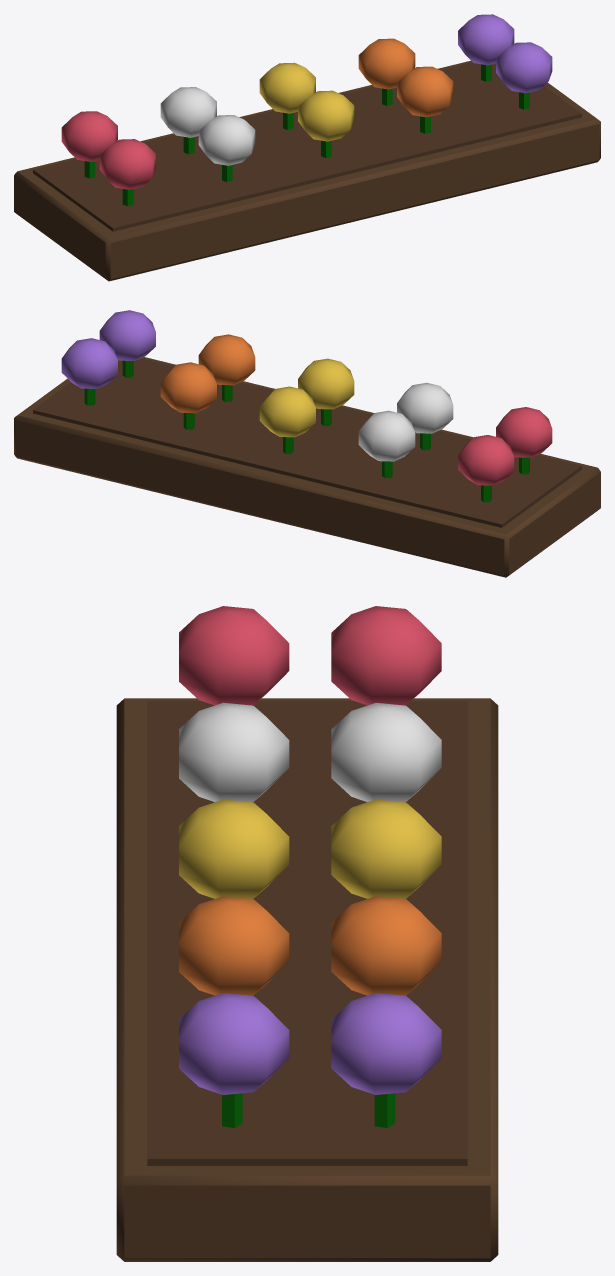
The model's file is Flowerbed.fbx.
3 renders of one model, top to bottom at view 1: azimuth 30°, elevation 25°; view 2: azimuth 150°, elevation 25°; view 3: azimuth 270°, elevation 25°, orthographic. The views are drawn at different scales.
Parts seen in each view (by area): view 1: Flowerbed; view 2: Flowerbed; view 3: Flowerbed.
Boxes of the visible parts, box(x1,y1,x2,y2) form: Flowerbed: box(14, 14, 600, 281); Flowerbed: box(14, 310, 600, 577); Flowerbed: box(116, 606, 498, 1261).
Bounding box in the file's own units: 3 × 0.63 × 1.
